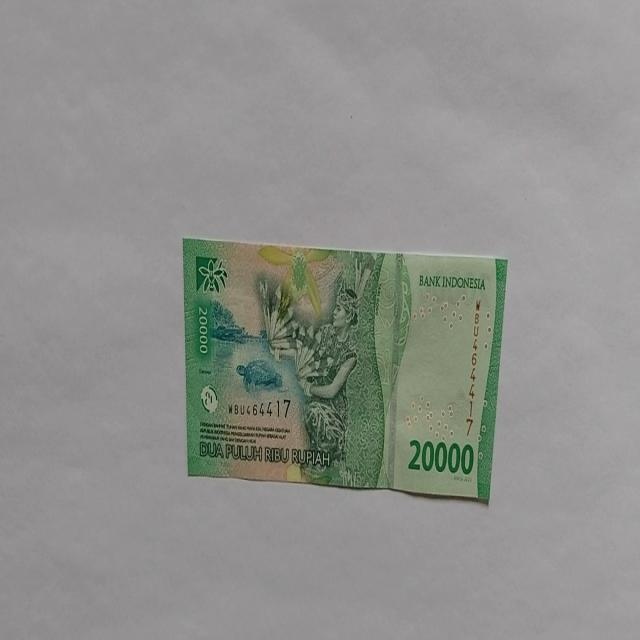dua puluh ribu rupiah: (182, 236, 508, 505)
